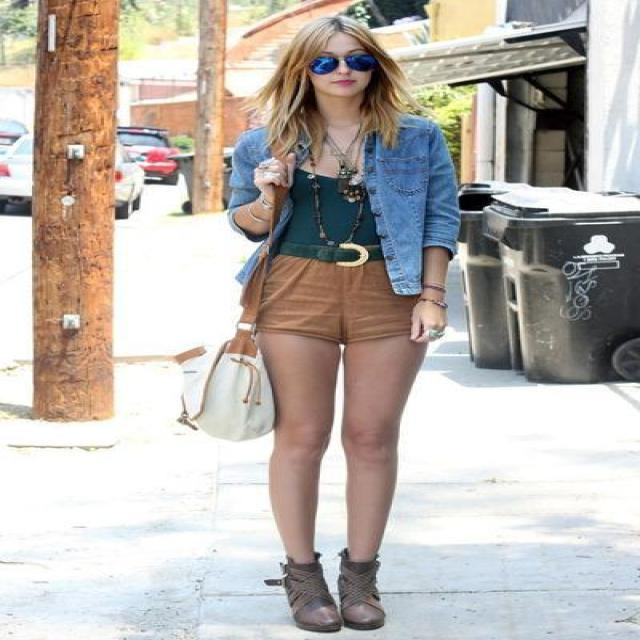bag: (178, 330, 274, 440)
jacket: (222, 90, 490, 293)
shirt: (288, 166, 379, 236)
shoe: (264, 551, 387, 626)
shorts: (254, 255, 426, 356)
sunglass: (310, 53, 357, 74)
